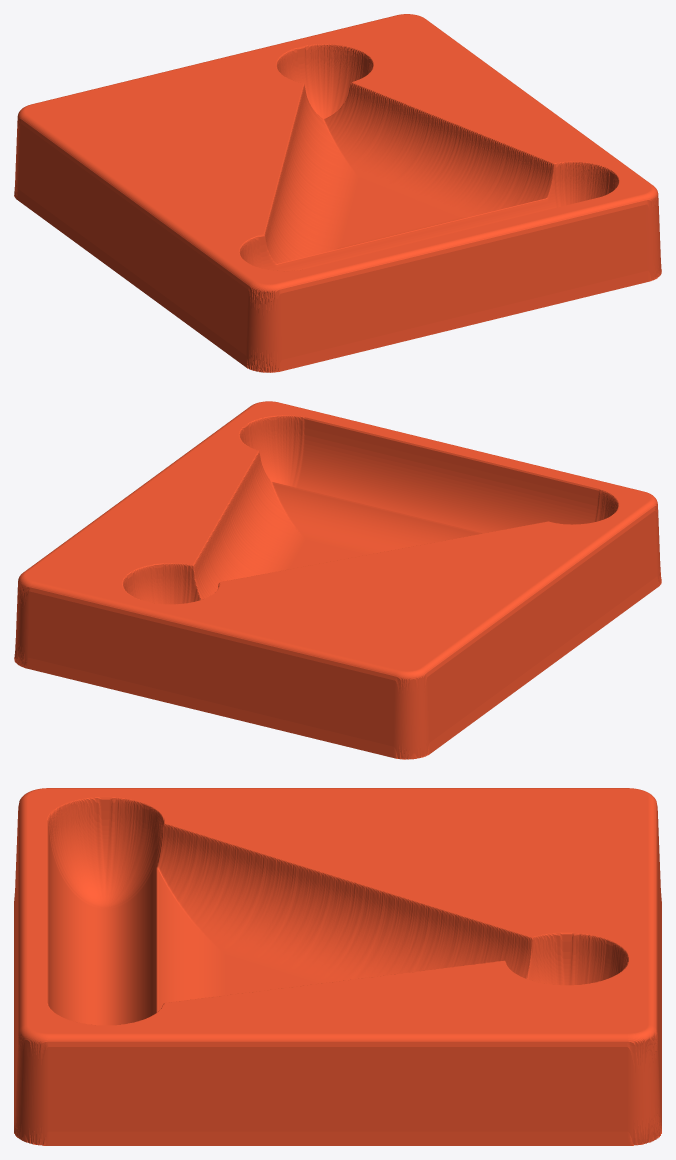
Rendered from mold.glb.
3 views of the same model, one above another, from view 1: azimuth 30°, elevation 25°; view 2: azimuth 150°, elevation 25°; view 3: azimuth 270°, elevation 25° (orthographic). The views are drawn at different scales.
Visible parts, largest first — view 1: geometry_0; view 2: geometry_0; view 3: geometry_0.
Boxes of the visible parts, x1,y1,x2,y2 form: geometry_0: (14, 14, 661, 372); geometry_0: (14, 401, 661, 759); geometry_0: (14, 788, 661, 1145).
Size of the model in its own units: 0.1598 by 0.031 by 0.1709.
